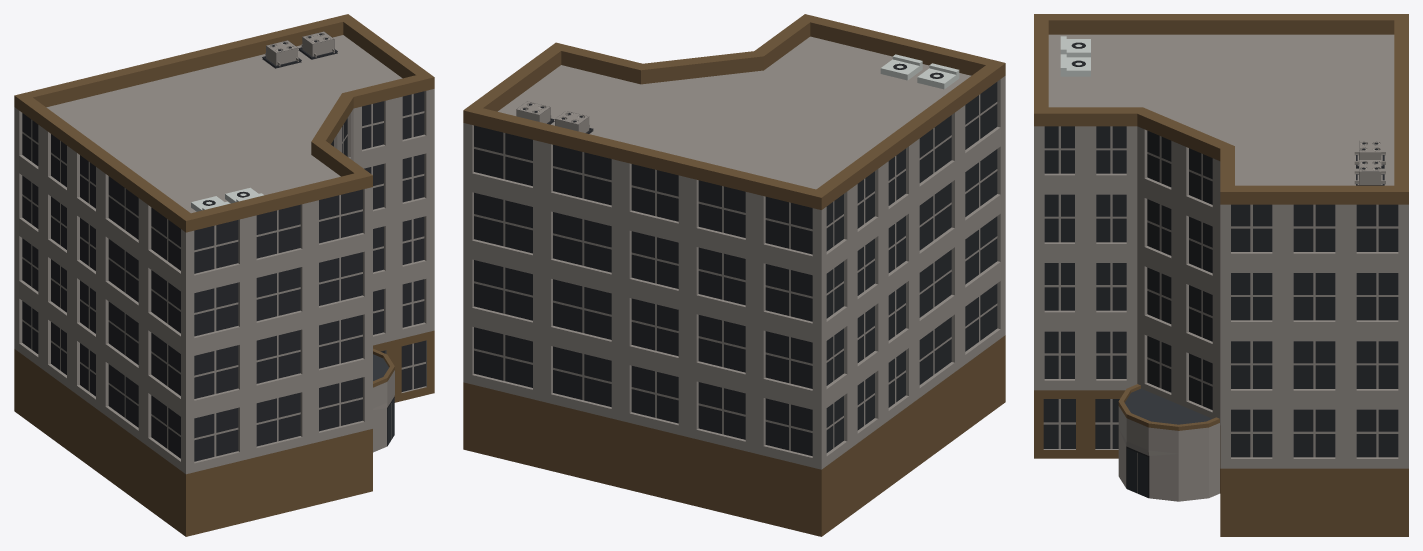
Rendered from Building_10.fbx.
3 views of the same model, side by side, from view 1: azimuth 30°, elevation 25°; view 2: azimuth 150°, elevation 25°; view 3: azimuth 270°, elevation 25° (orthographic). The views are drawn at different scales.
Parts seen in each view (by area): view 1: Building_10; view 2: Building_10; view 3: Building_10.
Boxes of the visible parts, box(x1,y1,x2,y2) form: Building_10: box(14, 14, 434, 536); Building_10: box(463, 14, 1005, 536); Building_10: box(1034, 14, 1408, 536).
Bounding box in the file's own units: 1559 × 1413 × 1388.
